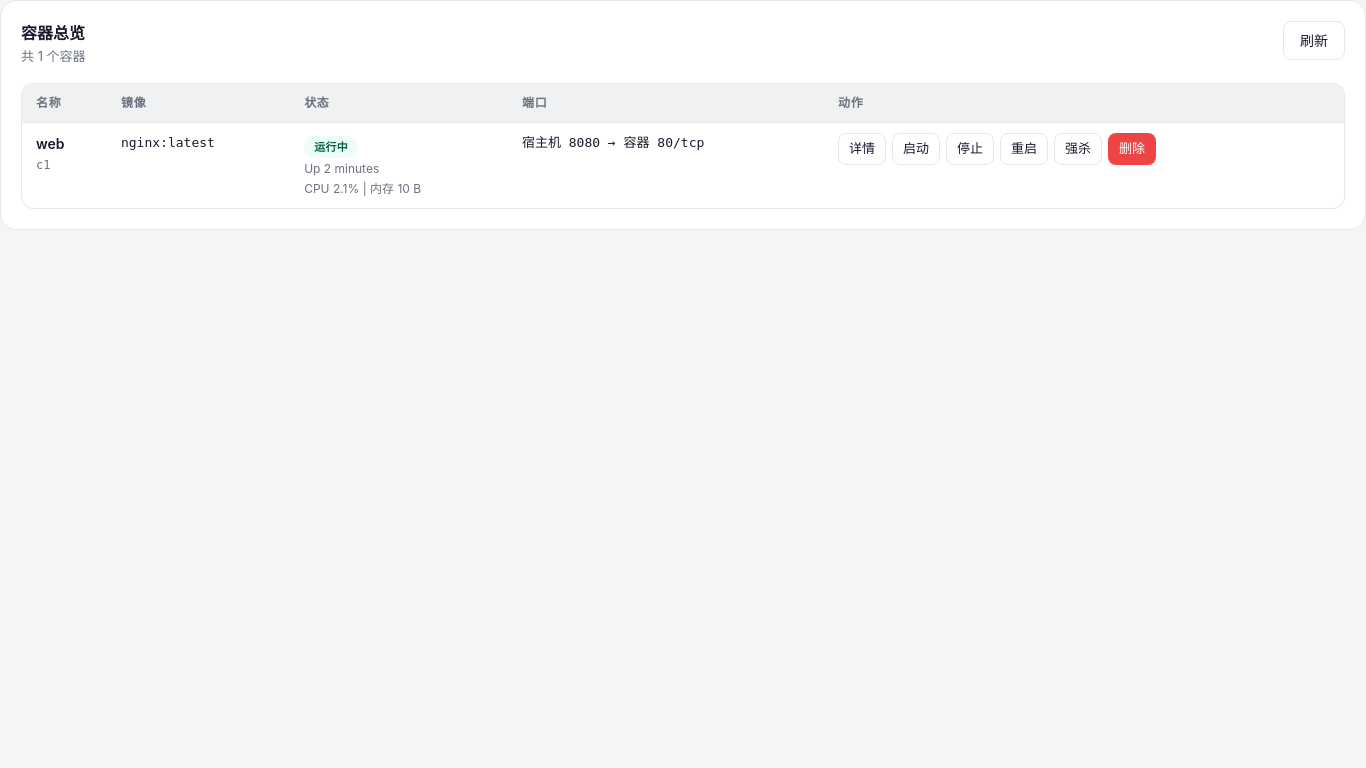
ContainerPanel › loads detail on demand and hides list
Expected: the text "web" is shown, 36,134 -> 65,152
Expected: the heading "容器总览" is shown, 21,21 -> 86,45
What coordinates should you click on to do the following:
click the button with aria-label "查看 web 详情"
I would click on:
 (862, 148)
Its box is 838,132 -> 886,164.
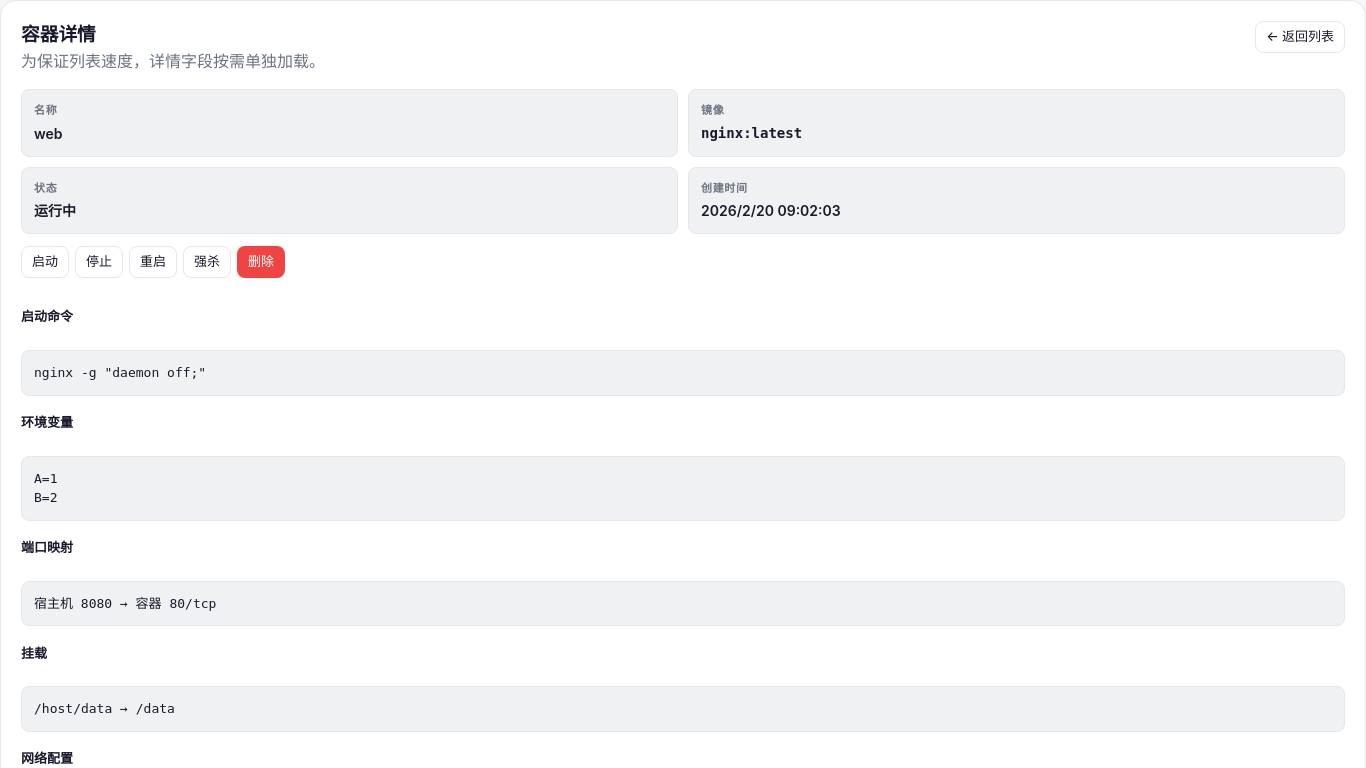
Expected: the heading "容器详情" is shown, 21,23 -> 96,46
Expected: the text "nginx -g \"daemon off;\"" is shown, 21,350 -> 1345,396
Expected: the heading "容器总览" is gone
